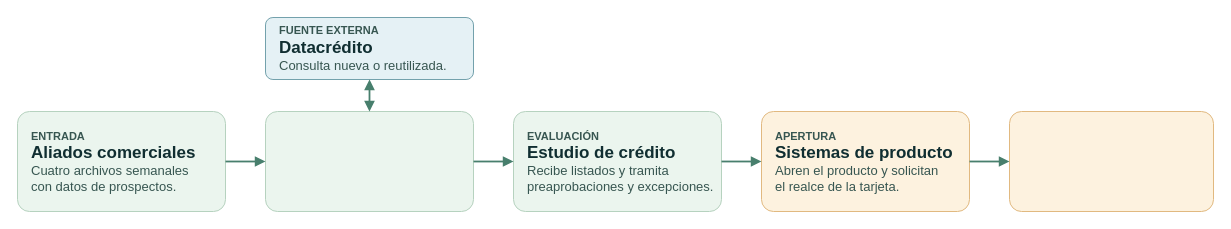
This 1231x229 diagram has some shape labels left out. The centre of each missing label's shape, as x and y in pixels:
ENTREGA Transportadora / cliente El cliente recibe la oferta y acepta o rechaza.: the point at 1111,161
VALIDACIÓN Riesgo + CRM Aplica reglas y registra a los prospectos aceptados.: the point at 369,161
